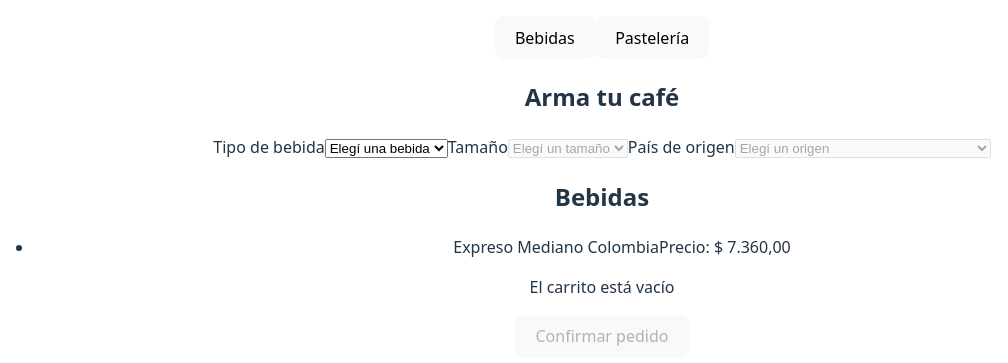
it: Menu › los productos de pasteleria tienen sus propios botones de agregar al carrito
The width and height of the screenshot is (1008, 363).
Expected: the text "Expreso Mediano Colombia" is shown, [453, 236, 659, 258]
Click the button "Pastelería": (652,38) [595, 16, 709, 59]
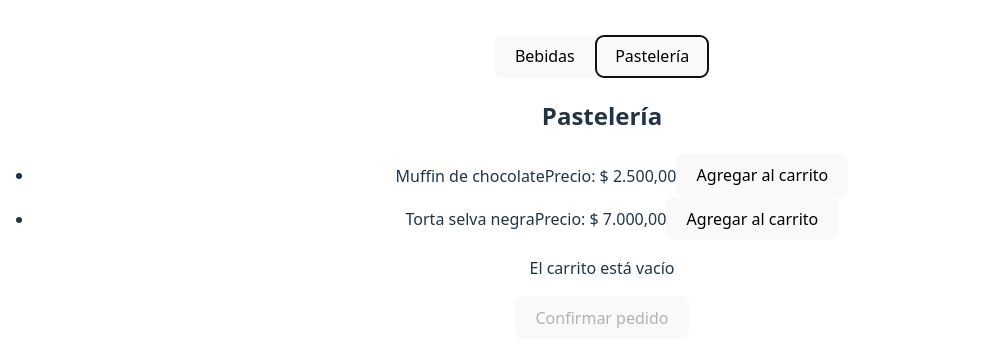
Now the text "Muffin de chocolate" is shown, box [396, 164, 545, 186]
Now the text "Torta selva negra" is shown, box [406, 208, 535, 230]
Now the number of buttons "Agregar al carrito" is 2, box [676, 154, 848, 197]; [666, 197, 838, 240]
